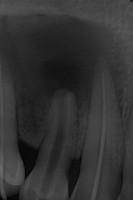Furcation Involvement: (0, 12, 129, 133)
